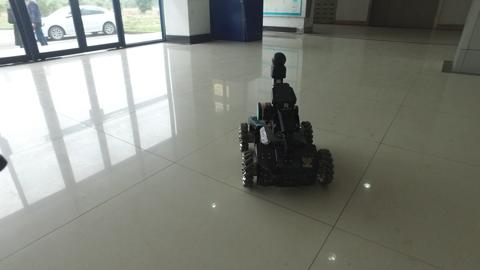car: (30, 2, 118, 39)
chariot: (237, 50, 334, 189)
